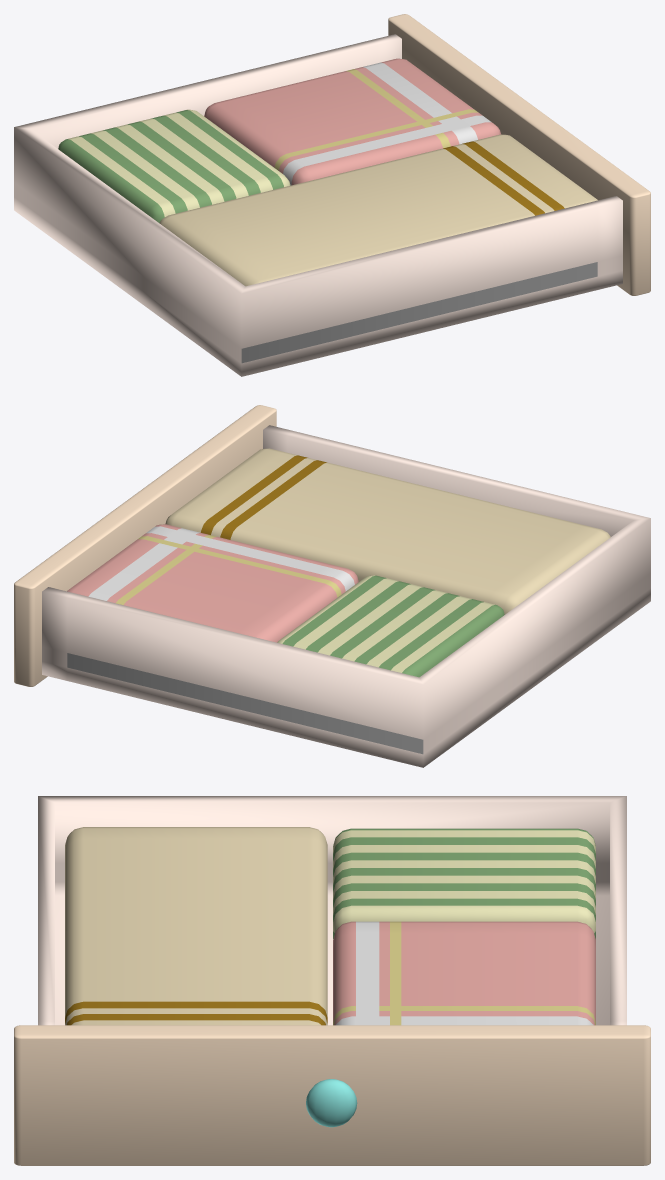
Rendered from szuflada.fbx.
The picture shows the model from 3 angles, top to bottom: view 1: azimuth 30°, elevation 25°; view 2: azimuth 150°, elevation 25°; view 3: azimuth 270°, elevation 25°; orthographic projection. The views are drawn at different scales.
Parts seen in each view (by area): view 1: Sphere.006, Cube.049, Cube.050, Cube.051; view 2: Sphere.006, Cube.049, Cube.050, Cube.051; view 3: Sphere.006, Cube.049, Cube.050, Cube.051.
Boxes of the visible parts, x1,y1,x2,y2 form: Sphere.006: (14,14,650,376); Cube.049: (159,134,597,286); Cube.050: (204,58,501,185); Cube.051: (58,109,290,222); Sphere.006: (14,405,650,767); Cube.049: (165,448,610,614); Cube.050: (67,524,358,642); Cube.051: (277,575,504,677); Sphere.006: (14,796,650,1165); Cube.049: (65,827,327,1025); Cube.050: (333,921,595,1025); Cube.051: (333,828,595,938).
Size of the model in its own units: 478 by 110 by 486.
